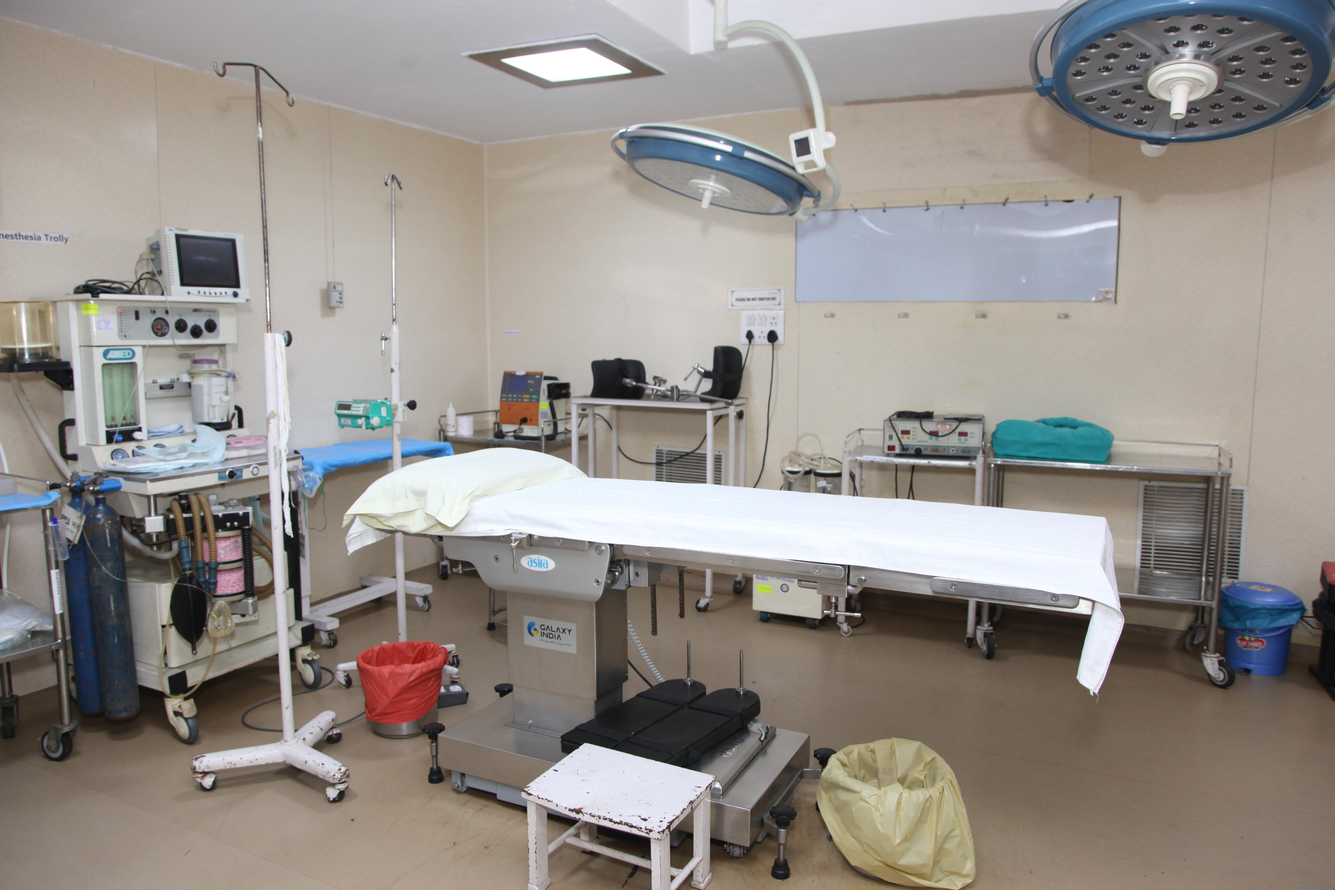Monitor: (165, 219, 258, 306)
Saline Stand: (193, 44, 348, 803), (367, 136, 439, 676)
bed: (364, 422, 1144, 826)
bin: (811, 709, 984, 890), (350, 631, 456, 750), (1230, 564, 1308, 696)
stool: (505, 726, 735, 890)
tools_table: (999, 393, 1255, 704)
